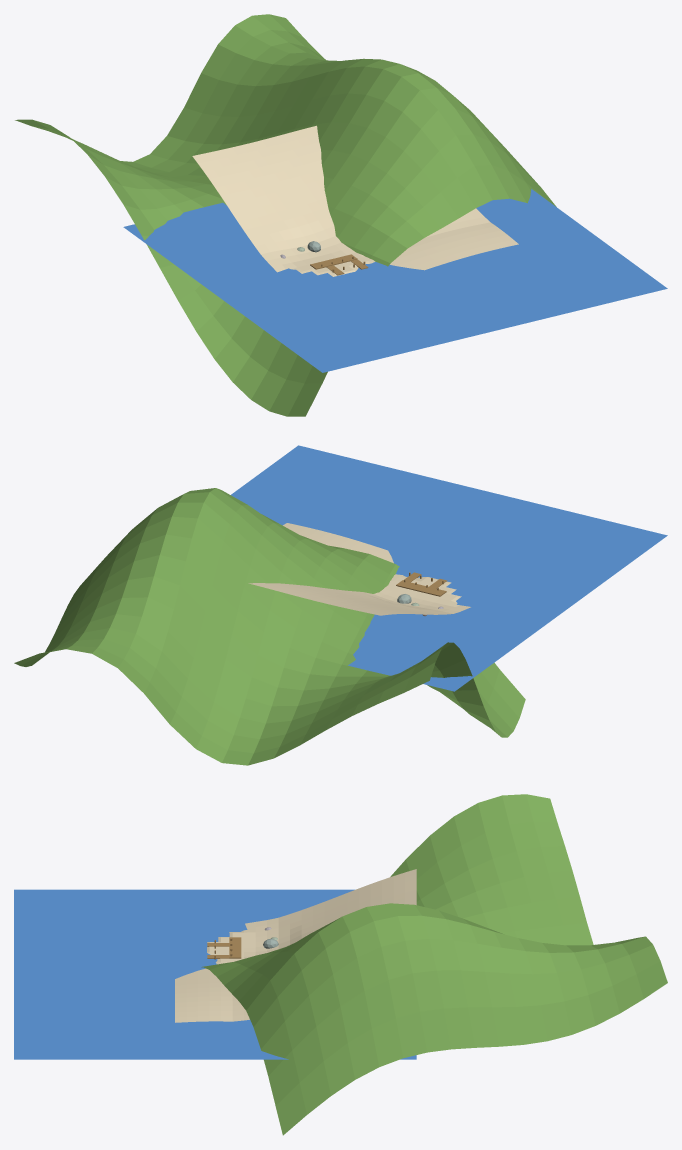
Rendered from setup_scene.fbx.
3 views of the same model, one above another, from view 1: azimuth 30°, elevation 25°; view 2: azimuth 150°, elevation 25°; view 3: azimuth 270°, elevation 25° (orthographic). The views are drawn at different scales.
Visible parts, largest first — view 1: BackgroundHills, HarborWater, HarborShore; view 2: BackgroundHills, HarborWater, HarborShore; view 3: BackgroundHills, HarborWater, HarborShore.
Boxes of the visible parts, x1,y1,x2,y2 form: BackgroundHills: [15, 14, 556, 416]; HarborWater: [123, 189, 667, 372]; HarborShore: [192, 125, 518, 276]; BackgroundHills: [14, 488, 525, 765]; HarborWater: [231, 445, 667, 691]; HarborShore: [248, 523, 470, 615]; BackgroundHills: [201, 794, 667, 1135]; HarborWater: [14, 889, 416, 1059]; HarborShore: [175, 869, 416, 1022].
Size of the model in its own units: 12487 by 6330 by 16244.
